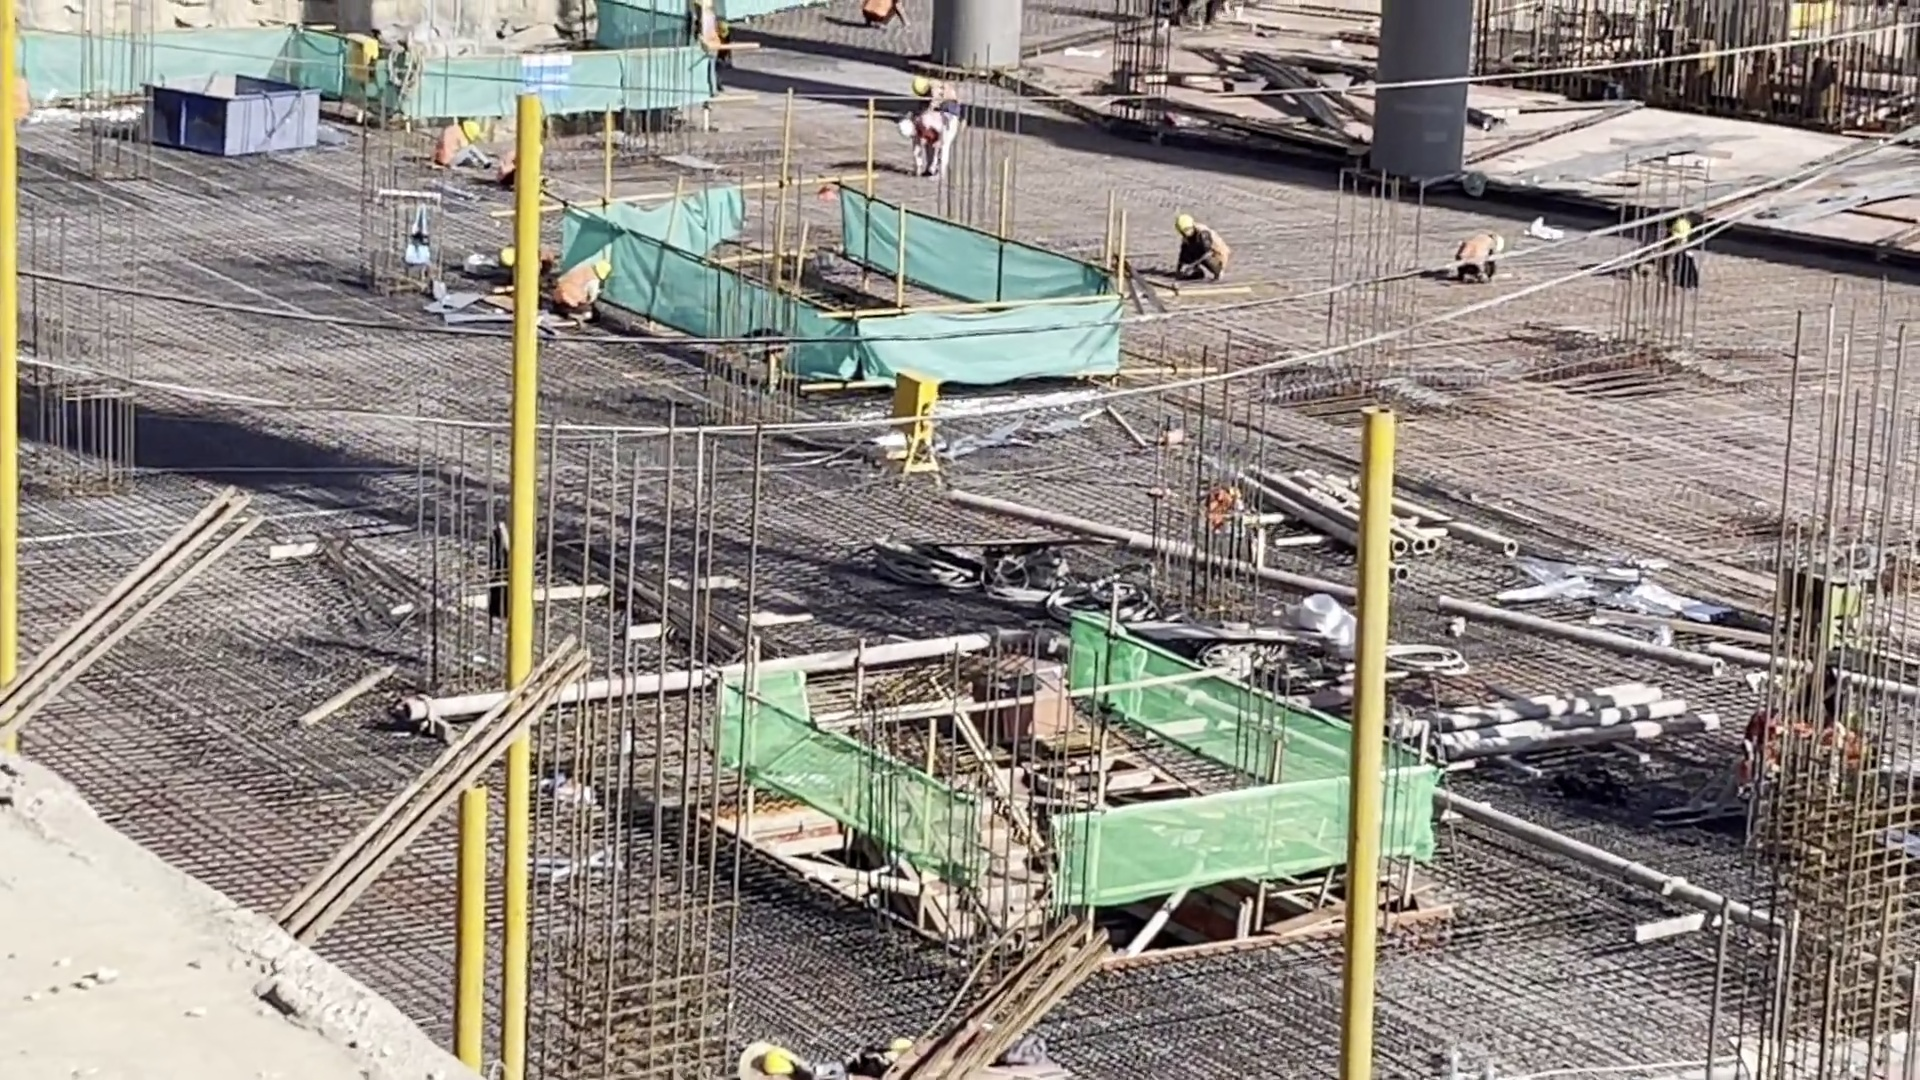ebox: (888, 376, 929, 446), (342, 30, 375, 83)
helmet: (464, 121, 483, 141), (594, 259, 609, 280), (1178, 215, 1193, 235), (897, 120, 912, 137), (910, 78, 927, 94)
hopper: (144, 74, 320, 154)
person: (1173, 214, 1228, 285), (902, 109, 957, 177), (559, 258, 612, 324), (433, 118, 487, 180), (1456, 233, 1513, 284), (856, 1, 913, 37), (908, 79, 958, 118)
slogan: (520, 56, 570, 92)
vest: (558, 262, 593, 310), (438, 129, 470, 176), (1461, 239, 1496, 276), (1198, 223, 1227, 260), (927, 79, 955, 110), (864, 1, 898, 18)
